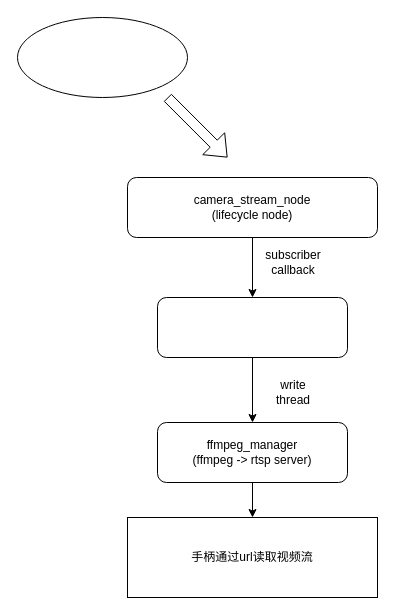
Image size: 395x615. Some labels were removed from this diagram. The centre of each missing label's shape, as x and y in pixels:
"camera_data sensor_msg::msg::Image" goes at point (102, 57).
"video_frame_buffer (queue)" goes at point (252, 327).
